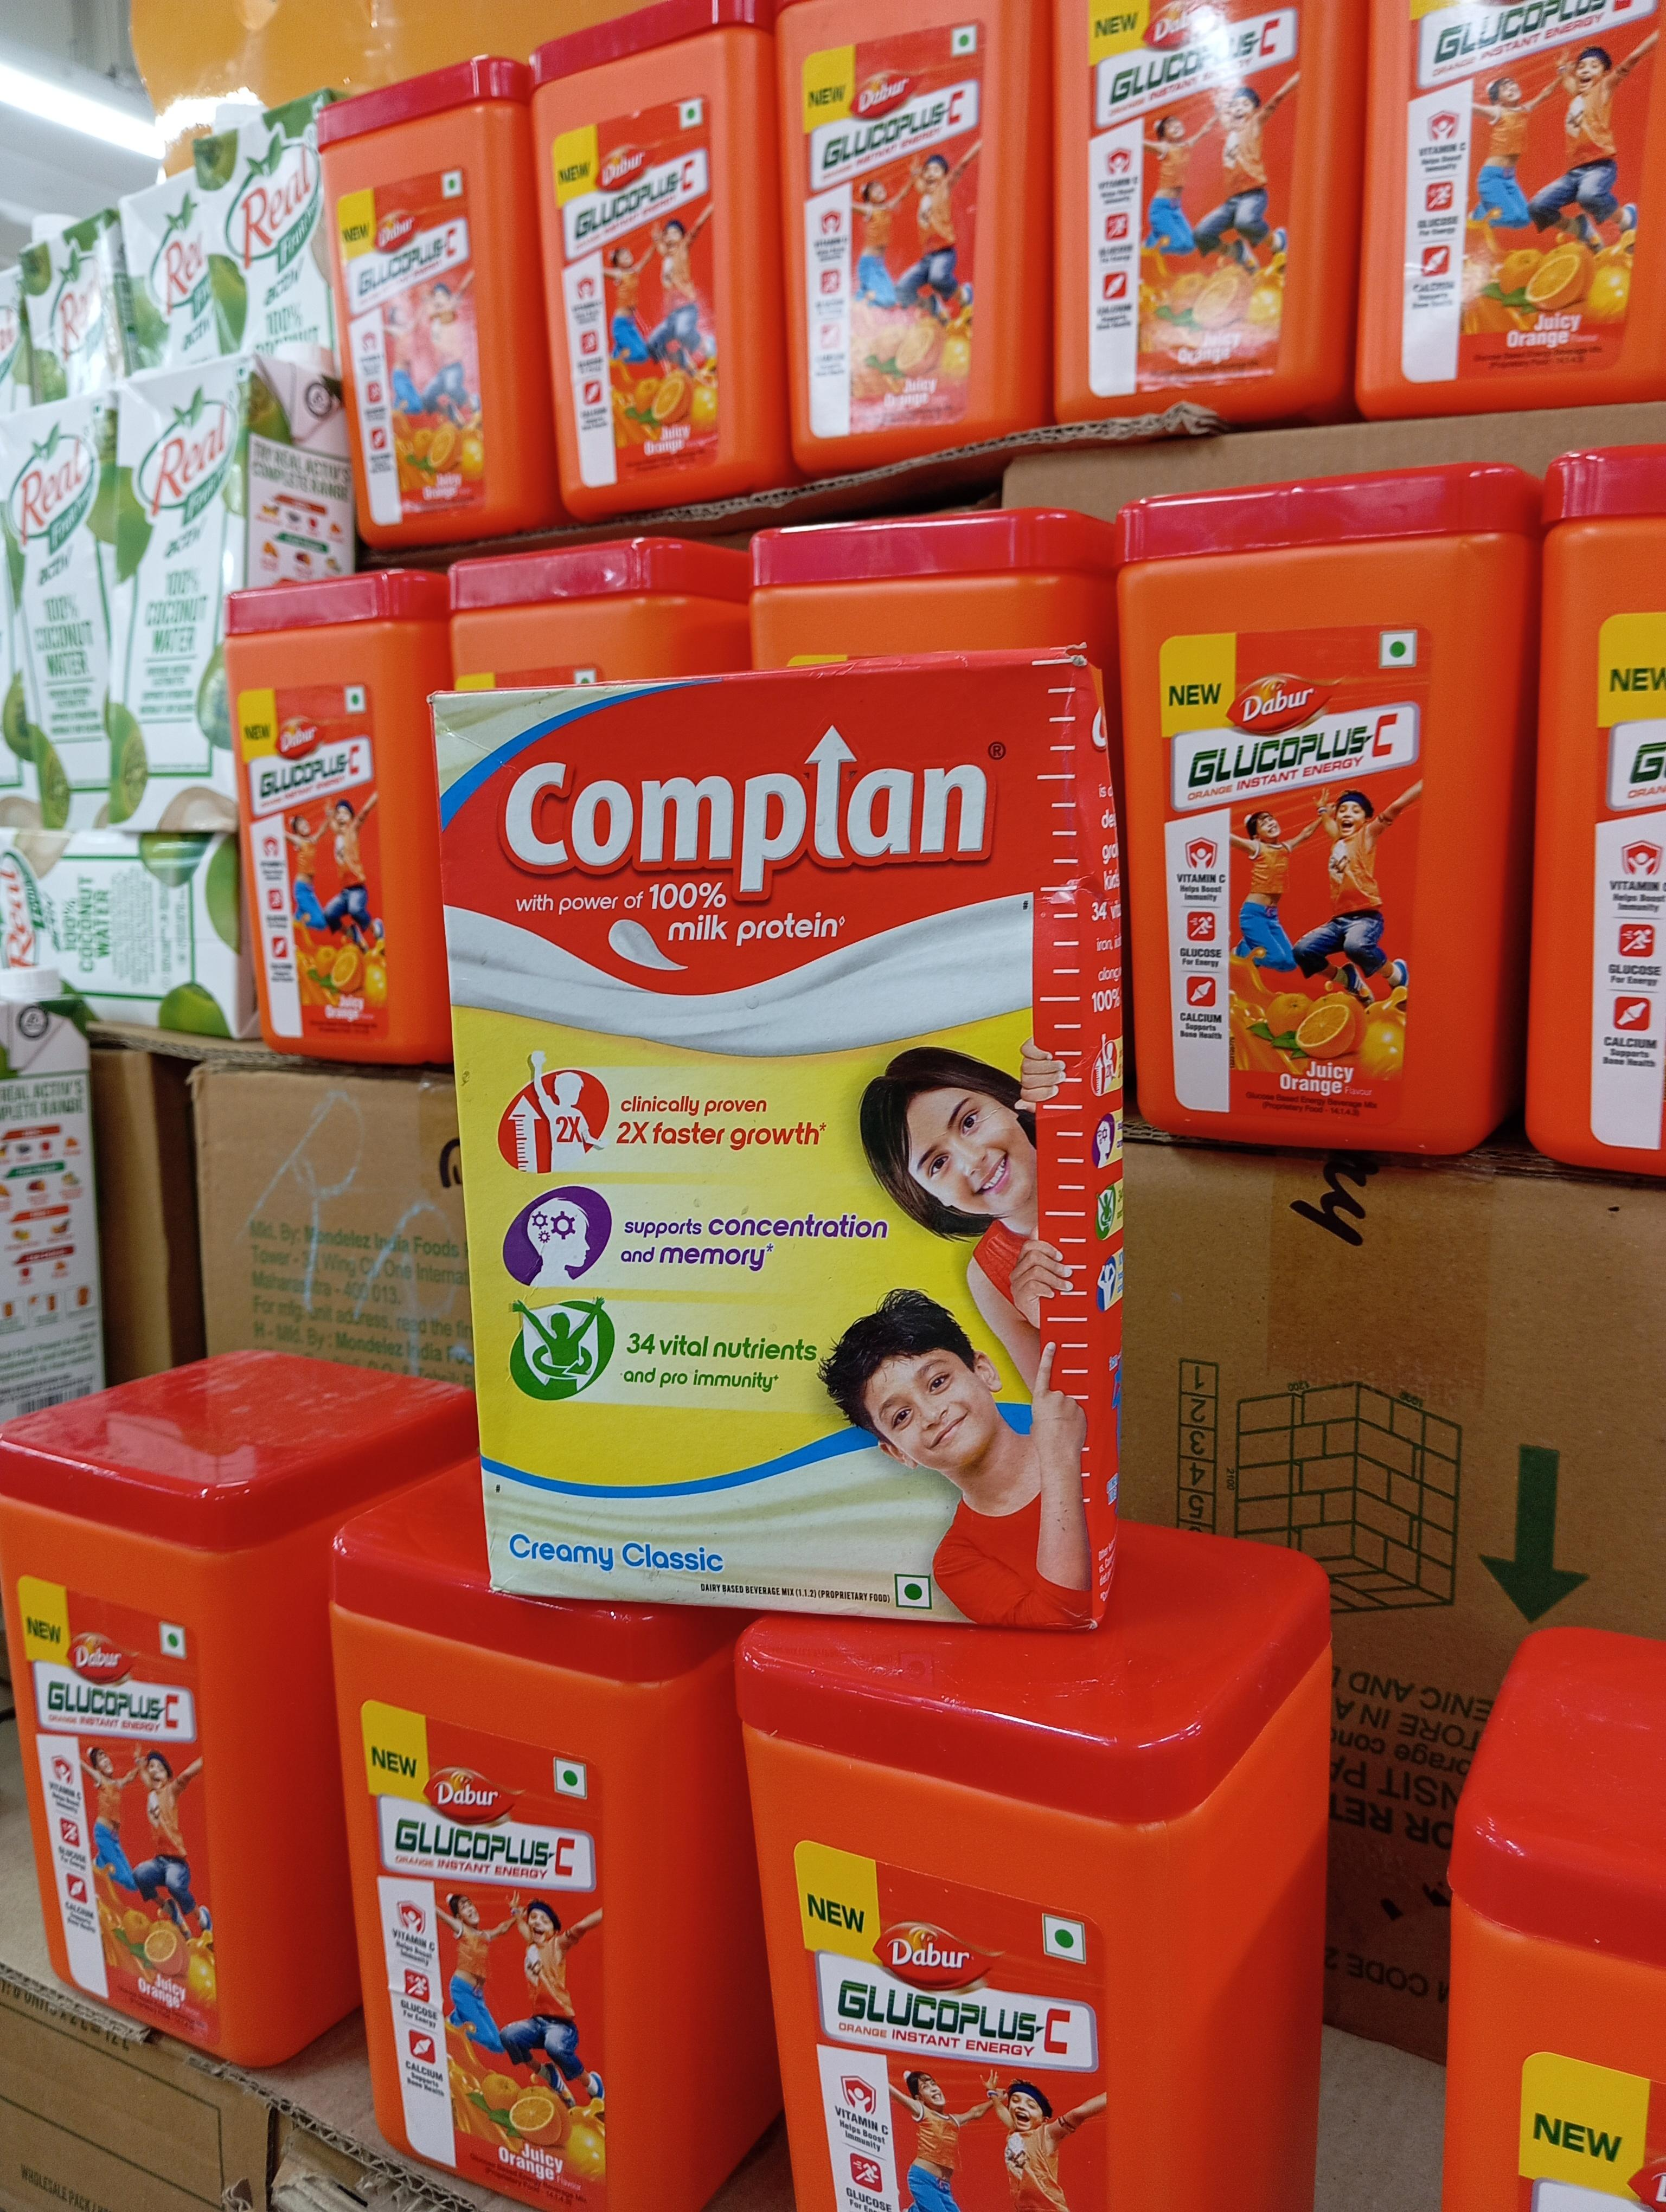COMPLAN_CREAMY_CLASSIC_500_G_PACK: (450, 677, 1102, 1616)
